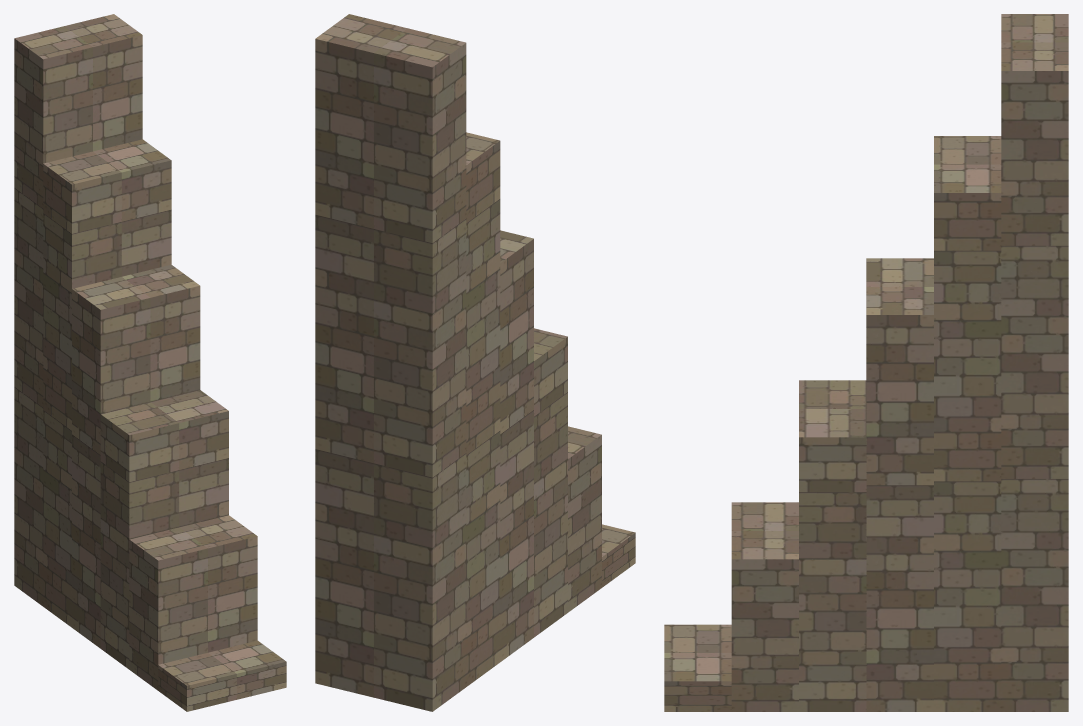
Rendered from stair_stone.glb.
3 views of the same model, side by side, from view 1: azimuth 30°, elevation 25°; view 2: azimuth 150°, elevation 25°; view 3: azimuth 270°, elevation 25° (orthographic). The views are drawn at different scales.
Parts seen in each view (by area): view 1: Stair_Stone; view 2: Stair_Stone; view 3: Stair_Stone.
Part boxes in pixels (x1=…): Stair_Stone: x1=14, y1=14, x2=286, y2=711; Stair_Stone: x1=315, y1=14, x2=635, y2=711; Stair_Stone: x1=664, y1=14, x2=1068, y2=711.
Bounding box in the file's own units: 0.9998 × 5.25 × 3.
1 material, 1 textured.
